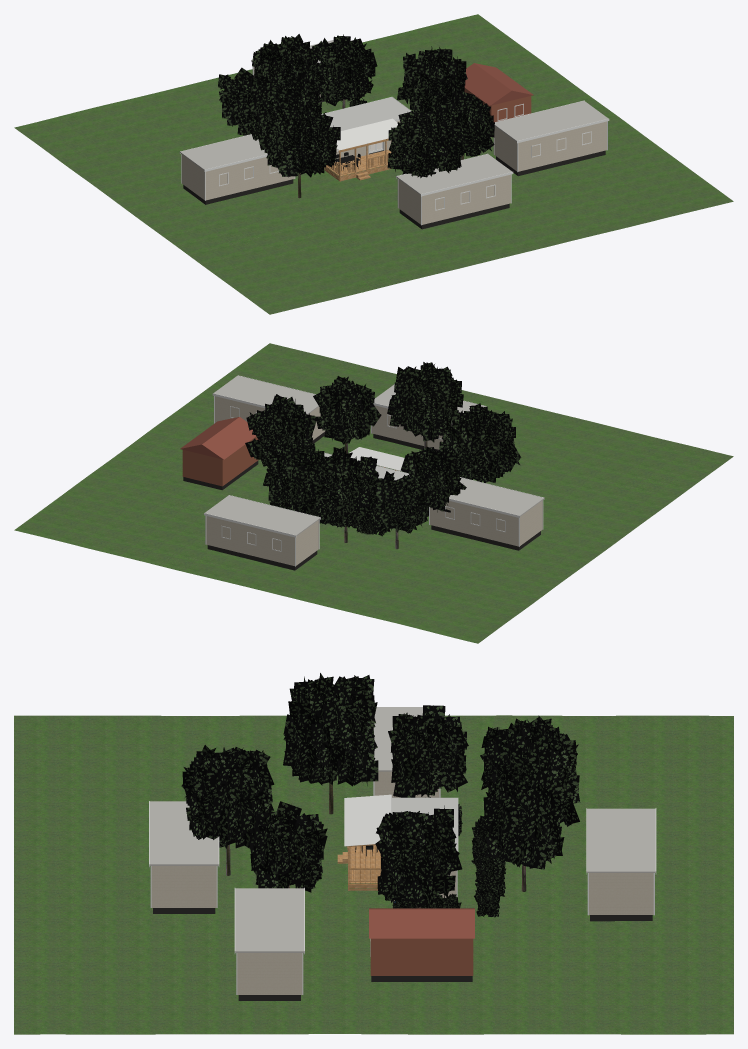
The model's file is chalet.glb.
3 views of the same model, one above another, from view 1: azimuth 30°, elevation 25°; view 2: azimuth 150°, elevation 25°; view 3: azimuth 270°, elevation 25° (orthographic). The views are drawn at different scales.
Visible parts, largest first — view 1: S_E_lawn, N_buiten_z_foliage_cards, N_buiten_n_foliage_cards, N_buiten_z_siding_neighbour, N_buiten_foliage_cards, N_buiten_z_roof_neighbour, N_buiten_siding_neighbour, N_buiten_neighbour_roof_red, N_buiten_roof_neighbour, S_D_roof_membrane, N_buiten_z_trim_white, S_D_veranda_pine (+6 smaller); view 2: S_E_lawn, N_buiten_z_foliage_cards, N_buiten_n_foliage_cards, N_buiten_foliage_cards, N_buiten_n_siding_neighbour, N_buiten_siding_neighbour, N_buiten_n_roof_neighbour, N_buiten_z_roof_neighbour, N_buiten_z_siding_neighbour, N_buiten_neighbour_wood, N_buiten_neighbour_roof_red, N_buiten_roof_neighbour (+5 smaller); view 3: S_E_lawn, N_buiten_z_foliage_cards, N_buiten_n_foliage_cards, N_buiten_foliage_cards, N_buiten_z_roof_neighbour, N_buiten_z_siding_neighbour, N_buiten_n_roof_neighbour, N_buiten_neighbour_wood, N_buiten_neighbour_roof_red, N_buiten_n_siding_neighbour, S_D_veranda_roof, N_buiten_roof_neighbour (+6 smaller).
Boxes of the visible parts, left/top/right/bottom form: S_E_lawn: left=14, top=14, right=733, bottom=314; N_buiten_z_foliage_cards: left=258, top=91, right=494, bottom=178; N_buiten_n_foliage_cards: left=218, top=34, right=377, bottom=135; N_buiten_z_siding_neighbour: left=398, top=121, right=606, bottom=224; N_buiten_foliage_cards: left=243, top=46, right=467, bottom=140; N_buiten_z_roof_neighbour: left=396, top=101, right=608, bottom=194; N_buiten_siding_neighbour: left=182, top=154, right=294, bottom=200; N_buiten_neighbour_roof_red: left=464, top=63, right=533, bottom=105; N_buiten_roof_neighbour: left=180, top=134, right=267, bottom=170; S_D_roof_membrane: left=321, top=97, right=410, bottom=130; N_buiten_z_trim_white: left=396, top=100, right=609, bottom=225; S_D_veranda_pine: left=324, top=138, right=391, bottom=181; S_E_lawn: left=14, top=343, right=733, bottom=643; N_buiten_z_foliage_cards: left=313, top=362, right=521, bottom=482; N_buiten_n_foliage_cards: left=263, top=443, right=427, bottom=536; N_buiten_foliage_cards: left=245, top=394, right=466, bottom=525; N_buiten_n_siding_neighbour: left=206, top=516, right=318, bottom=565; N_buiten_siding_neighbour: left=430, top=500, right=542, bottom=546; N_buiten_n_roof_neighbour: left=205, top=495, right=320, bottom=535; N_buiten_z_roof_neighbour: left=214, top=375, right=486, bottom=414; N_buiten_z_siding_neighbour: left=215, top=396, right=452, bottom=449; N_buiten_neighbour_wood: left=182, top=436, right=259, bottom=486; N_buiten_neighbour_roof_red: left=180, top=417, right=255, bottom=459; N_buiten_roof_neighbour: left=449, top=477, right=544, bottom=516; S_E_lawn: left=14, top=715, right=733, bottom=1034; N_buiten_z_foliage_cards: left=181, top=673, right=378, bottom=892; N_buiten_n_foliage_cards: left=471, top=715, right=580, bottom=917; N_buiten_foliage_cards: left=375, top=705, right=468, bottom=908; N_buiten_z_roof_neighbour: left=149, top=801, right=304, bottom=952; N_buiten_z_siding_neighbour: left=151, top=866, right=302, bottom=994; N_buiten_n_roof_neighbour: left=586, top=808, right=655, bottom=872; N_buiten_neighbour_wood: left=370, top=938, right=473, bottom=975; N_buiten_neighbour_roof_red: left=369, top=908, right=474, bottom=938; N_buiten_n_siding_neighbour: left=589, top=873, right=653, bottom=914; S_D_veranda_roof: left=344, top=794, right=391, bottom=846; N_buiten_roof_neighbour: left=373, top=707, right=422, bottom=771.
Size of the model in its own units: 44 by 8.56 by 42.
Materials: 121 (87 with a texture image).
